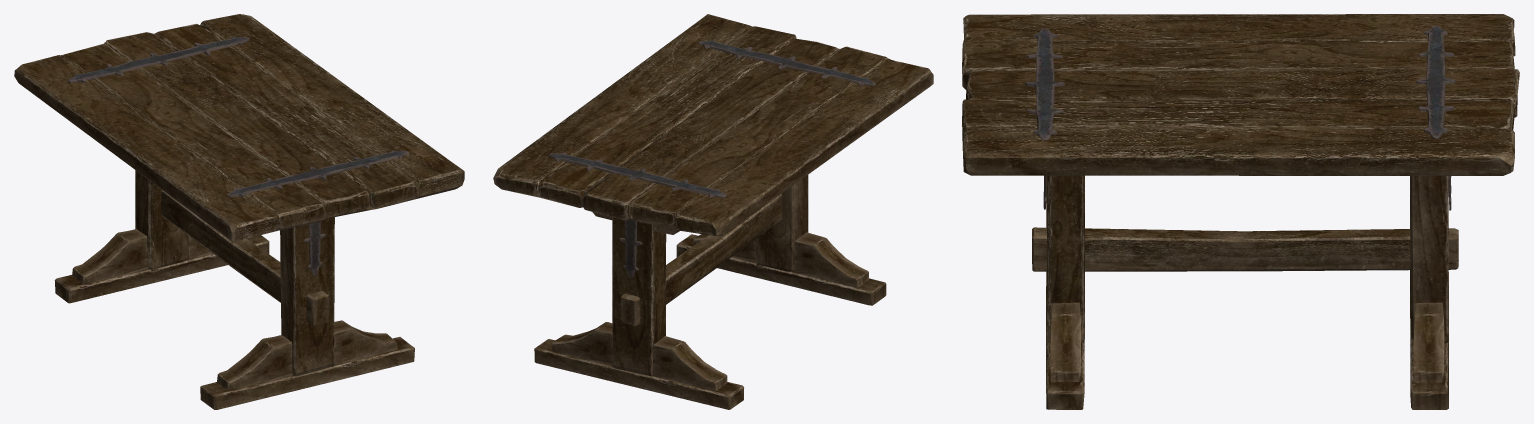
The model's file is dining_table_wooden_j0y.glb.
The picture shows the model from 3 angles, left to right: view 1: azimuth 30°, elevation 25°; view 2: azimuth 150°, elevation 25°; view 3: azimuth 270°, elevation 25°; orthographic projection. The views are drawn at different scales.
Parts seen in each view (by area): view 1: defaultMaterial; view 2: defaultMaterial; view 3: defaultMaterial.
Part boxes in pixels (x1,y1,x2,y2): defaultMaterial: (14, 14, 464, 409); defaultMaterial: (493, 14, 933, 409); defaultMaterial: (962, 14, 1519, 409).
Bounding box in the file's own units: 1.21 × 1.06 × 2.
Materials: 1 (1 with a texture image).
